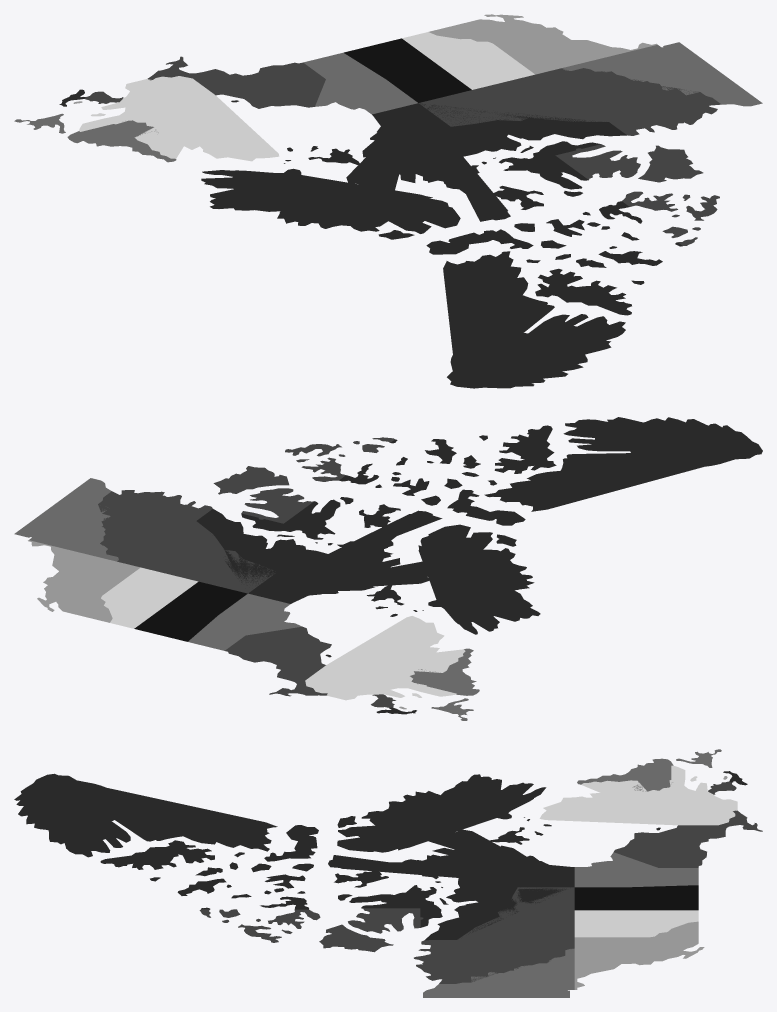
File: Canada_Provinces_2D_V1.fbx
3 views of the same model, one above another, from view 1: azimuth 30°, elevation 25°; view 2: azimuth 150°, elevation 25°; view 3: azimuth 270°, elevation 25° (orthographic). The views are drawn at different scales.
Parts seen in each view (by area): view 1: Nunavut_2D_V1, Northwest_Territories_2D_V1, Quebec_2D_V1, British_Columbia_2D_V1, Yukon_2D_V1, Ontario_2D_V1, Alberta_2D_V1, Saskatchewan_2D_V1, Manitoba_2D_V1, Newfoundland_And_Labrador_2D_V1; view 2: Nunavut_2D_V1, Northwest_Territories_2D_V1, Quebec_2D_V1, British_Columbia_2D_V1, Yukon_2D_V1, Ontario_2D_V1, Saskatchewan_2D_V1, Alberta_2D_V1, Manitoba_2D_V1, Newfoundland_And_Labrador_2D_V1; view 3: Nunavut_2D_V1, Northwest_Territories_2D_V1, Quebec_2D_V1, British_Columbia_2D_V1, Yukon_2D_V1, Ontario_2D_V1, Saskatchewan_2D_V1, Alberta_2D_V1, Manitoba_2D_V1, Newfoundland_And_Labrador_2D_V1.
Boxes of the visible parts, x1,y1,x2,y2 form: Nunavut_2D_V1: [201, 100, 682, 388]; Northwest_Territories_2D_V1: [419, 68, 721, 245]; Quebec_2D_V1: [79, 76, 279, 161]; British_Columbia_2D_V1: [429, 14, 657, 74]; Yukon_2D_V1: [562, 42, 762, 106]; Ontario_2D_V1: [147, 56, 325, 108]; Alberta_2D_V1: [402, 32, 534, 89]; Saskatchewan_2D_V1: [344, 38, 471, 102]; Manitoba_2D_V1: [303, 52, 417, 114]; Newfoundland_And_Labrador_2D_V1: [14, 113, 176, 162]; Nunavut_2D_V1: [196, 417, 762, 657]; Northwest_Territories_2D_V1: [98, 437, 394, 593]; Quebec_2D_V1: [305, 616, 465, 700]; British_Columbia_2D_V1: [28, 540, 140, 622]; Yukon_2D_V1: [14, 478, 118, 561]; Ontario_2D_V1: [225, 626, 331, 696]; Saskatchewan_2D_V1: [134, 581, 247, 641]; Alberta_2D_V1: [101, 567, 198, 628]; Manitoba_2D_V1: [188, 593, 301, 650]; Newfoundland_And_Labrador_2D_V1: [410, 648, 479, 720]; Nunavut_2D_V1: [14, 773, 660, 940]; Northwest_Territories_2D_V1: [199, 887, 574, 983]; Quebec_2D_V1: [539, 765, 737, 825]; British_Columbia_2D_V1: [574, 921, 704, 989]; Yukon_2D_V1: [423, 948, 574, 997]; Ontario_2D_V1: [614, 810, 762, 867]; Saskatchewan_2D_V1: [574, 885, 698, 910]; Alberta_2D_V1: [574, 910, 698, 937]; Manitoba_2D_V1: [574, 852, 698, 887]; Newfoundland_And_Labrador_2D_V1: [577, 749, 721, 791].
Size of the model in its own units: 1125 by 0 by 1431.
